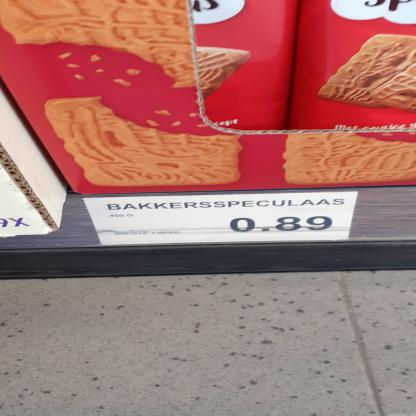prtg: (83, 193, 358, 246)
